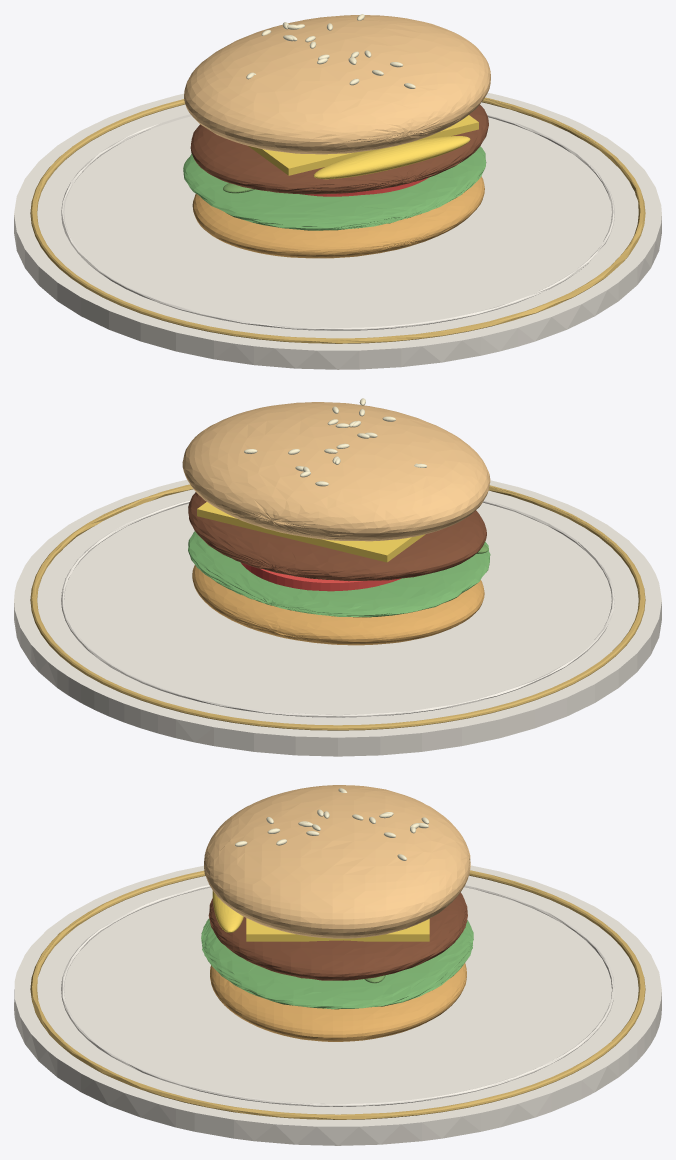
Rendered from silver_sapoon_burger_opt.glb.
3 views of the same model, one above another, from view 1: azimuth 30°, elevation 25°; view 2: azimuth 150°, elevation 25°; view 3: azimuth 270°, elevation 25° (orthographic).
Visible parts, largest first — view 1: Porcelain plate, Tomato slice one, Fine gold plate rim; view 2: Porcelain plate, Tomato slice one, Fine gold plate rim; view 3: Porcelain plate, Tomato slice one, Fine gold plate rim.
Boxes of the visible parts, x1,y1,x2,y2 form: Porcelain plate: (14,14,661,369); Tomato slice one: (184,15,490,196); Fine gold plate rim: (30,97,645,343); Porcelain plate: (14,398,661,756); Tomato slice one: (182,402,490,591); Fine gold plate rim: (30,484,645,730); Porcelain plate: (14,788,661,1145); Tomato slice one: (204,785,470,938); Fine gold plate rim: (30,870,645,1119).
Bounding box in the file's own units: 18 × 5.72 × 18.
Materials: 3 (3 with a texture image).
